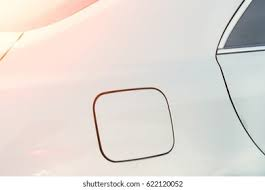closed: (89, 83, 183, 162)
